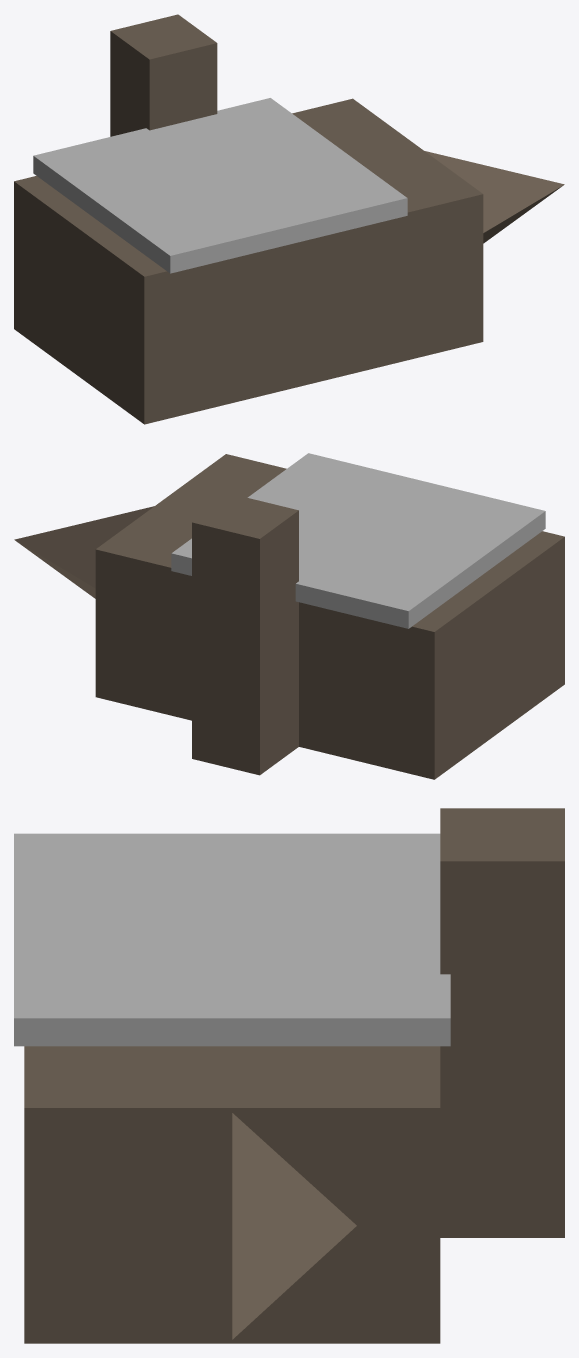
Rendered from blender-calibration.glb.
The picture shows the model from 3 angles, top to bottom: view 1: azimuth 30°, elevation 25°; view 2: azimuth 150°, elevation 25°; view 3: azimuth 270°, elevation 25°; orthographic projection. The views are drawn at different scales.
Visible parts, largest first — view 1: calibration; view 2: calibration; view 3: calibration.
Part boxes in pixels (box(x1,y1,x2,y2)): calibration: box(14, 14, 564, 424); calibration: box(14, 453, 564, 779); calibration: box(14, 808, 564, 1343).
Bounding box in the file's own units: 0.86 × 0.4 × 0.53.
